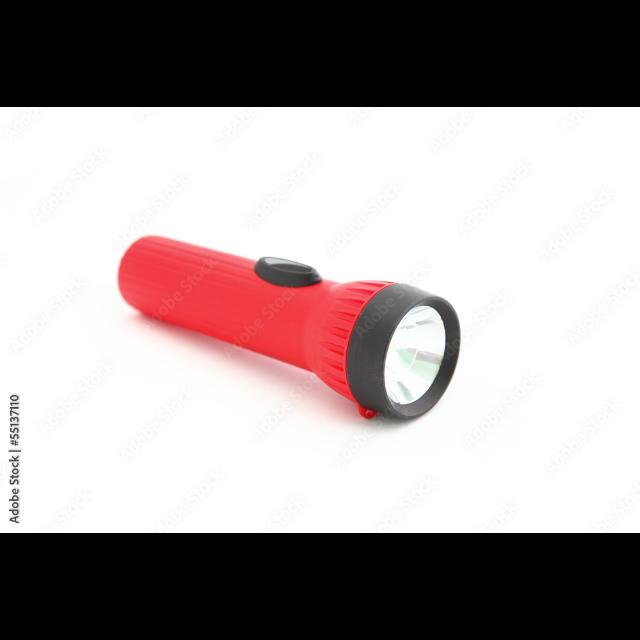Flashlight: (114, 230, 466, 430)
